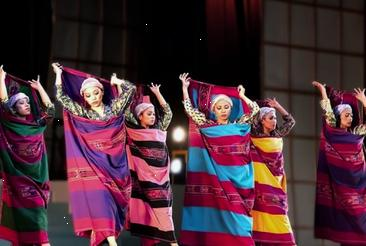malong: (50, 59, 135, 246), (179, 78, 261, 246), (309, 70, 366, 246), (0, 68, 55, 246), (128, 81, 182, 244), (245, 131, 300, 246)
